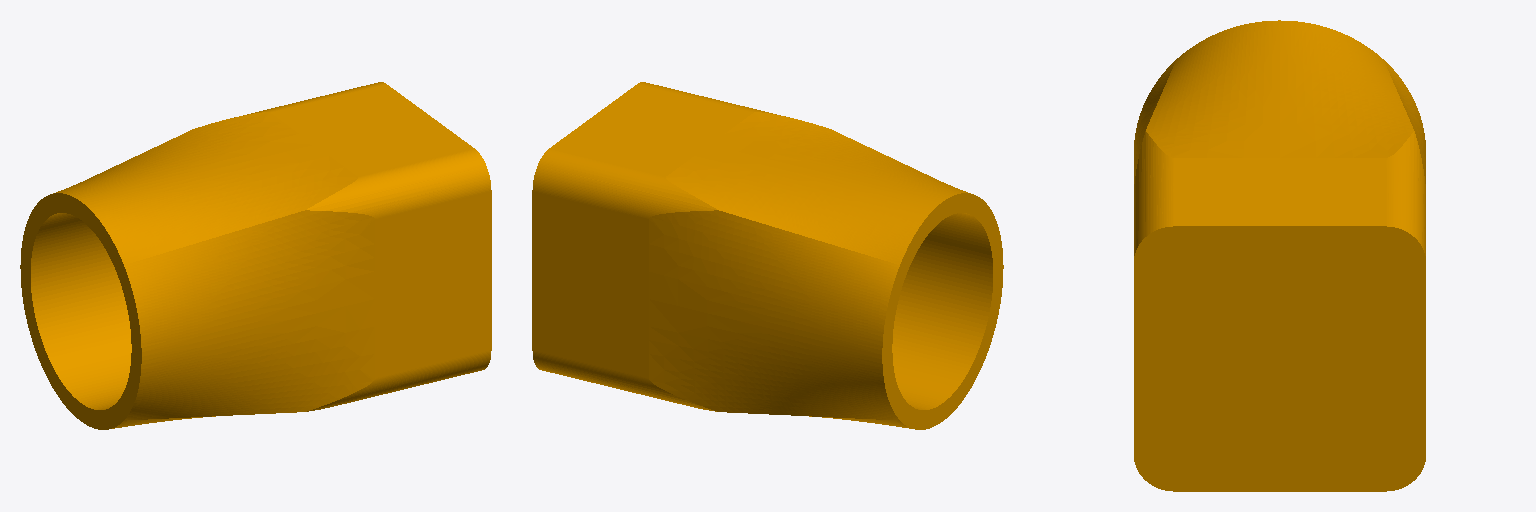
robot.urdf — stool_circular_8:
<?xml version="1.0"?>
<robot name="stool_circular_8">
  <link name="stool_circular_8">
    <visual>
      <origin xyz="0 0 0" rpy="0 0 0"/>
      <geometry><mesh filename="8_canonical.obj" scale="1 1 1"/></geometry>
    </visual>
    <collision>
      <origin xyz="0 0 0" rpy="0 0 0"/>
      <geometry><mesh filename="8_canonical.obj" scale="1 1 1"/></geometry>
    </collision>
    <inertial><density value="1250.0"/></inertial>
  </link>
</robot>

--- Facts derived from the render (not from the file) ---
The picture shows the robot from 3 angles, left to right: view 1: azimuth 30°, elevation 25°; view 2: azimuth 150°, elevation 25°; view 3: azimuth 270°, elevation 25°; orthographic projection.
Model stool_circular_8 with 1 links and 0 joints (none), rooted at stool_circular_8, posed all joints at 0.
Visible links, largest first — view 1: stool_circular_8; view 2: stool_circular_8; view 3: stool_circular_8.
Boxes of the visible links, box(x1,y1,x2,y2) form: stool_circular_8: box(20, 82, 491, 429); stool_circular_8: box(532, 82, 1003, 429); stool_circular_8: box(1134, 20, 1425, 491).
Size in the robot's own frame: 0.03 by 0.018 by 0.018 metres.
1 mesh visuals loaded from 1 distinct referenced files (1 OBJ).
